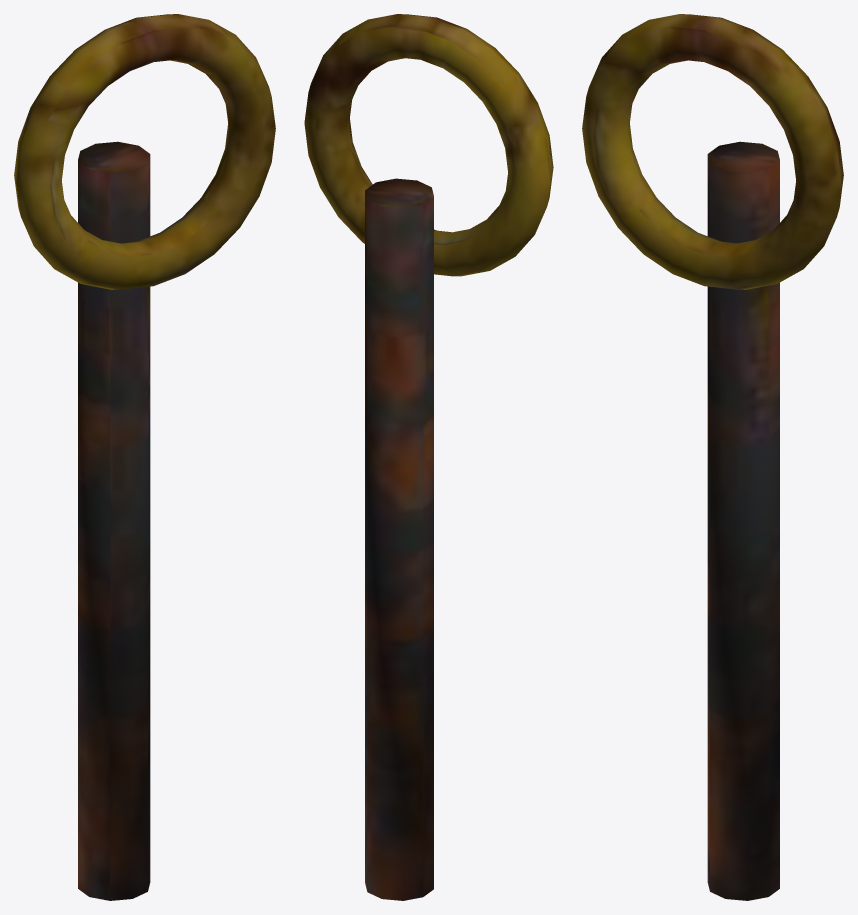
File: gate_handle.glb
3 renders of one model, left to right at view 1: azimuth 30°, elevation 25°; view 2: azimuth 150°, elevation 25°; view 3: azimuth 330°, elevation 25°, orthographic. The views are drawn at different scales.
Visible parts, largest first — view 1: Main; view 2: Main; view 3: Main.
Part boxes in pixels (<box>): Main: <box>14,14,275,900</box>; Main: <box>304,14,553,900</box>; Main: <box>582,14,843,900</box>.
Bounding box in the file's own units: 0.48 × 1.59 × 0.2.
Materials: 1 (1 with a texture image).
